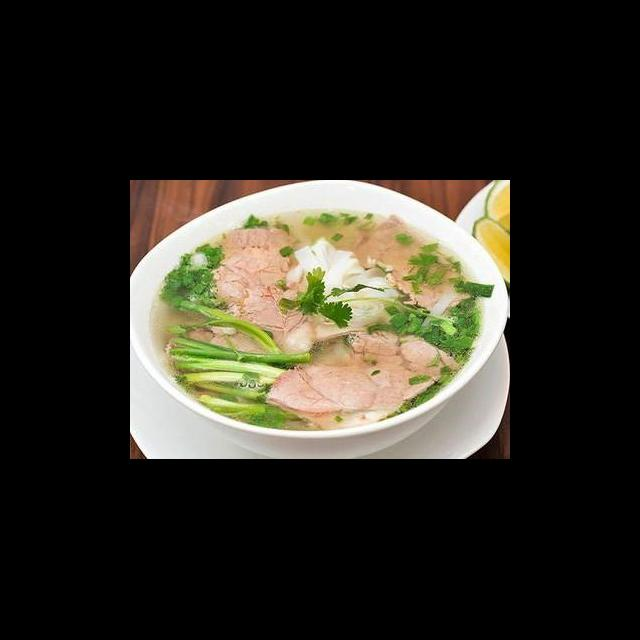banh pho: (276, 232, 407, 346)
pho bo: (132, 192, 506, 453)
thit bo: (261, 324, 463, 436), (193, 223, 315, 359), (350, 212, 475, 312)
